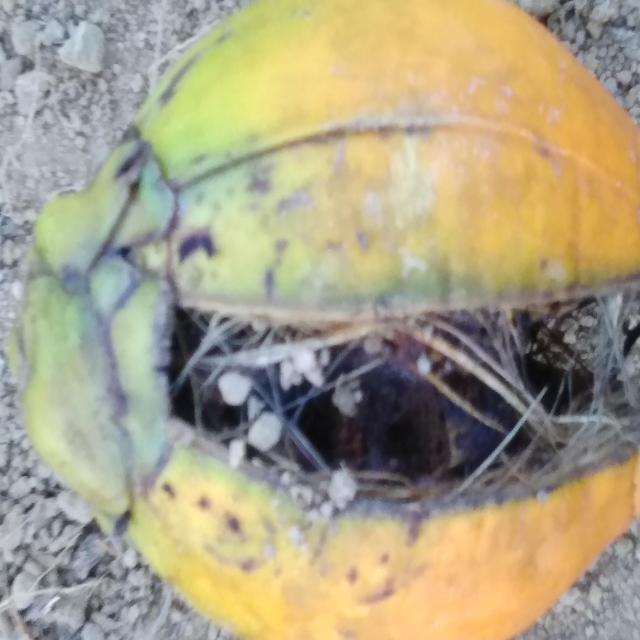damaged: (7, 0, 640, 640)
